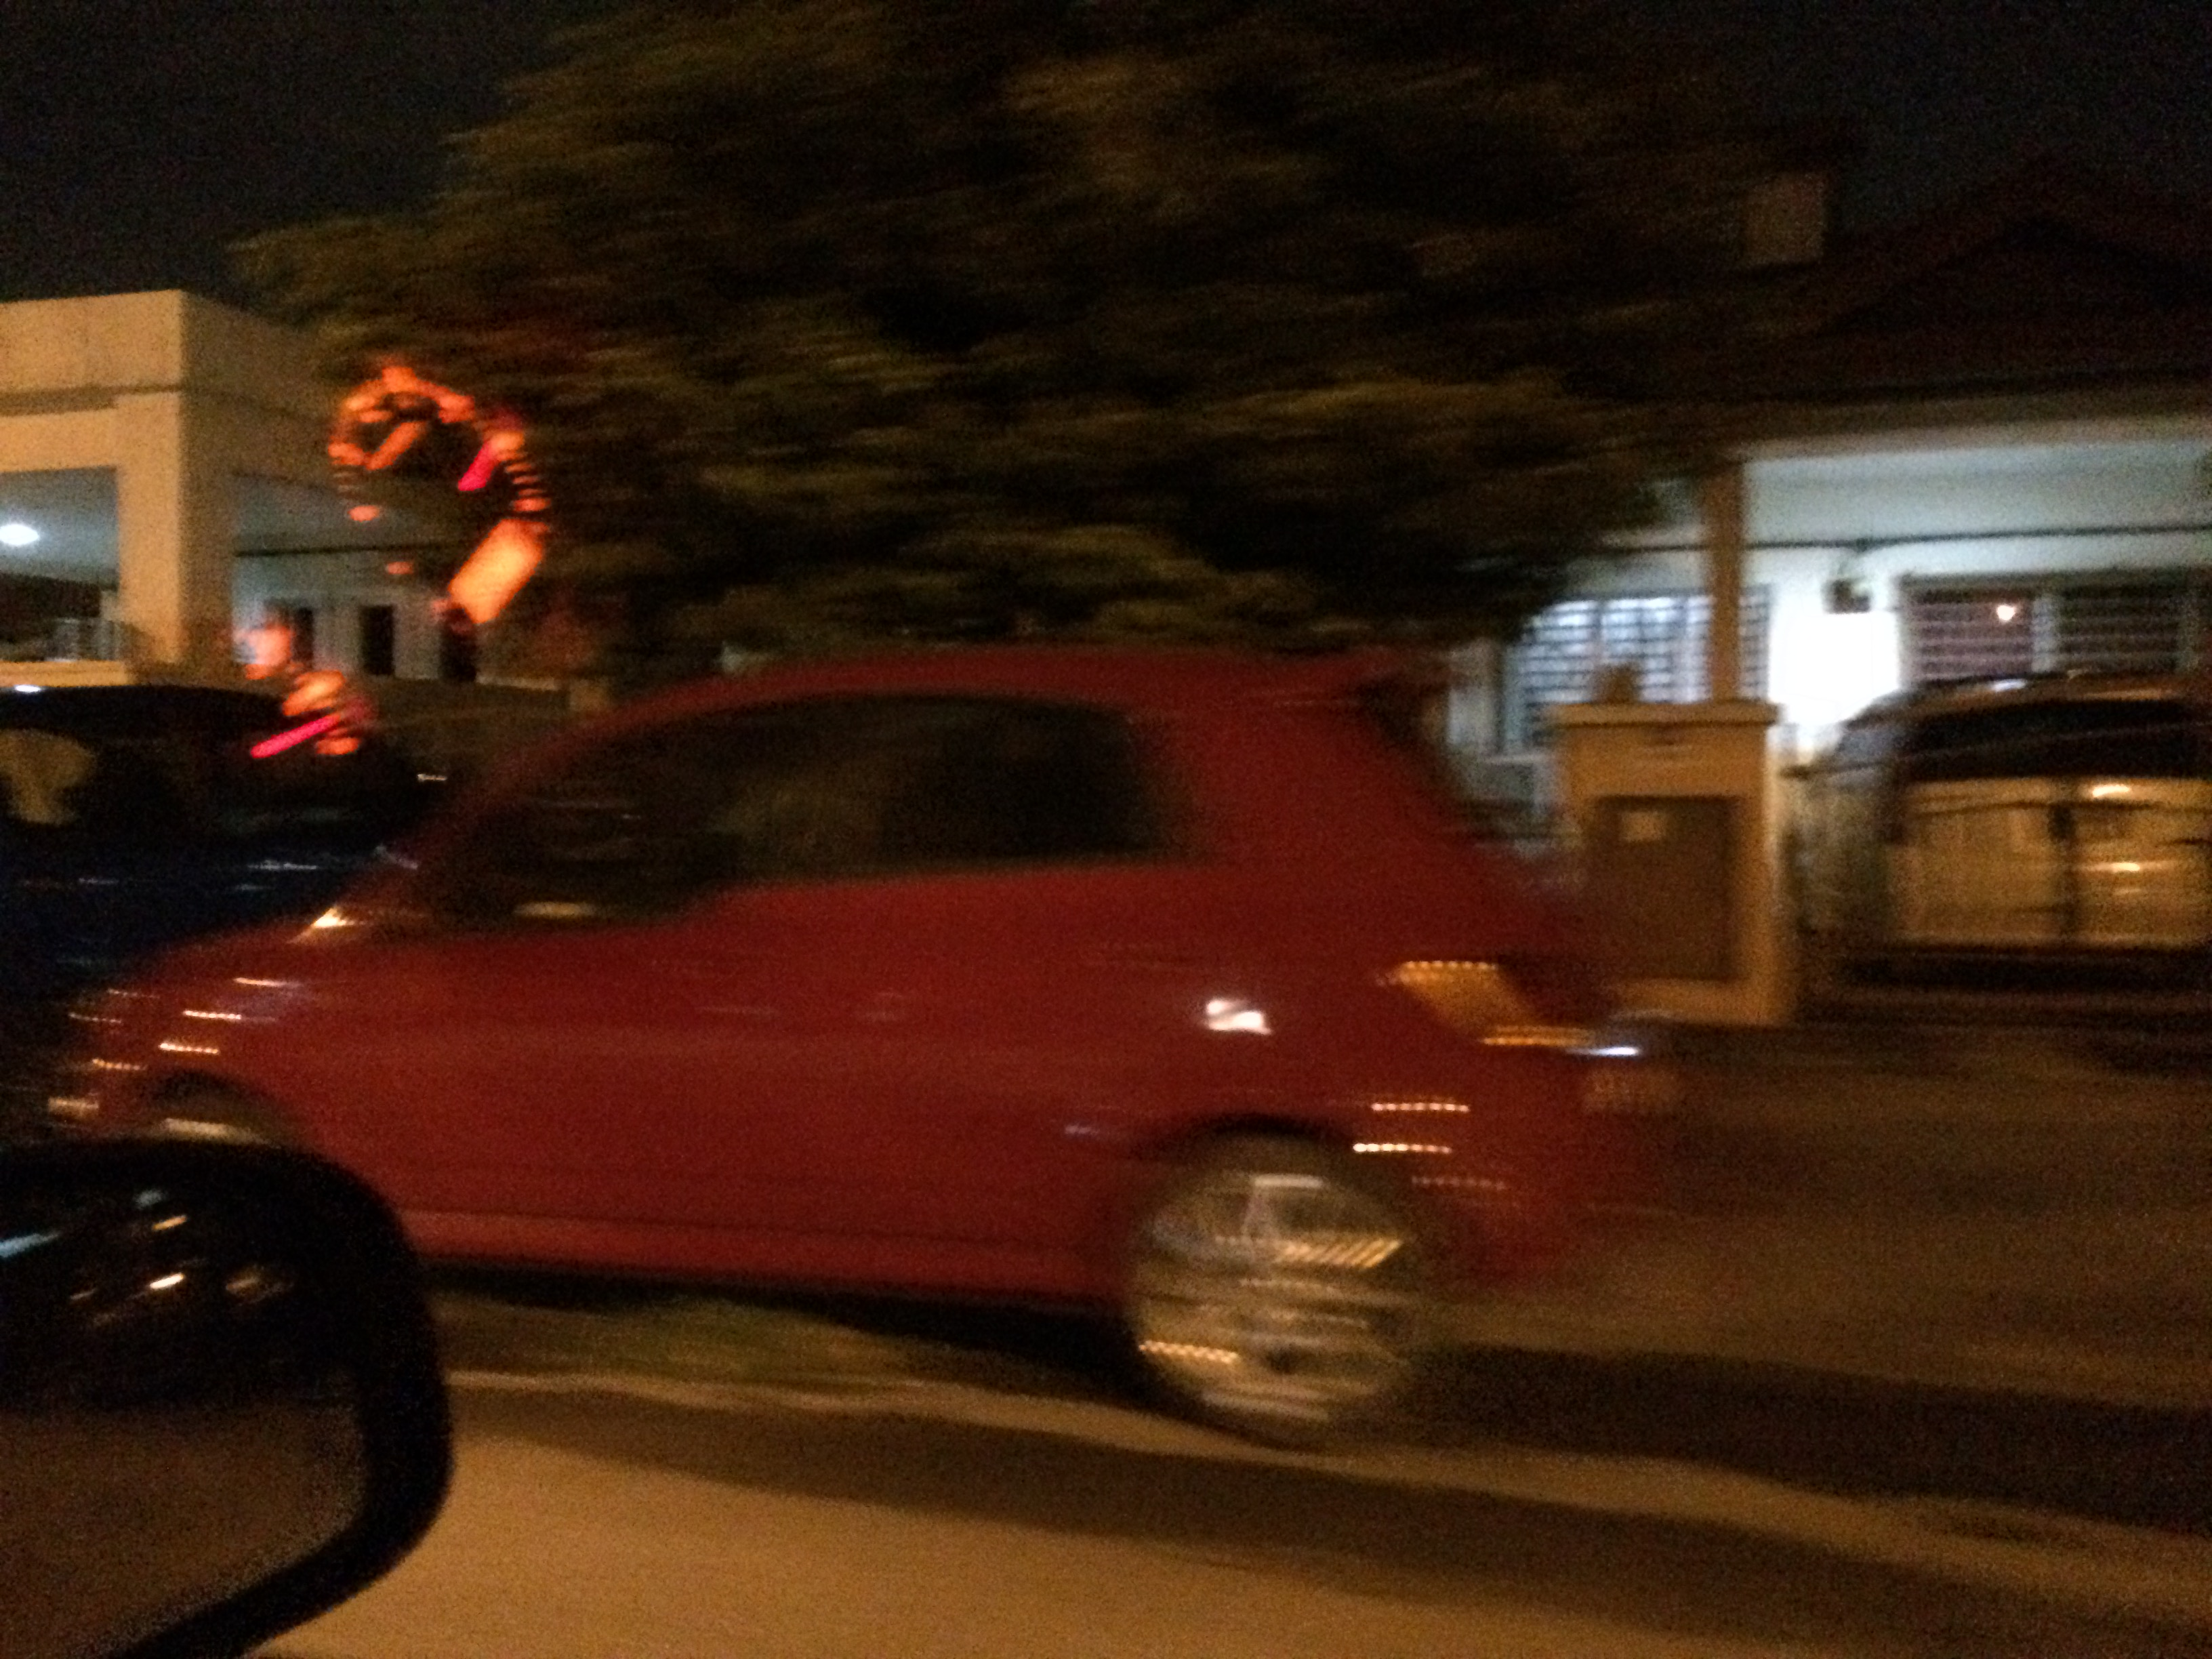car: (30, 598, 1721, 1509)
